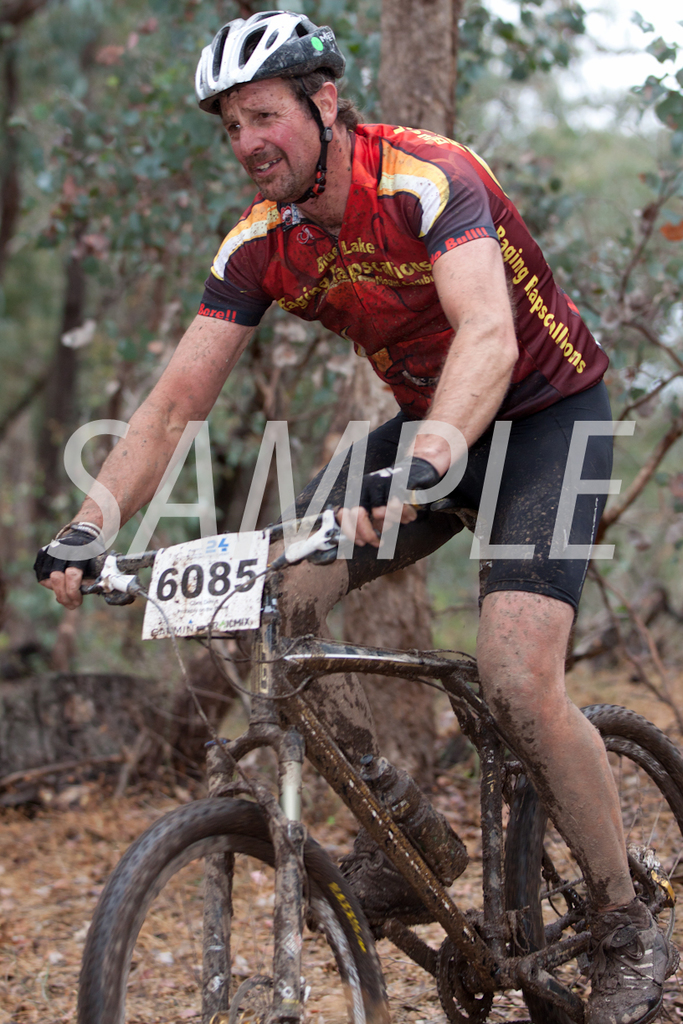Bike: (32, 509, 678, 1009)
